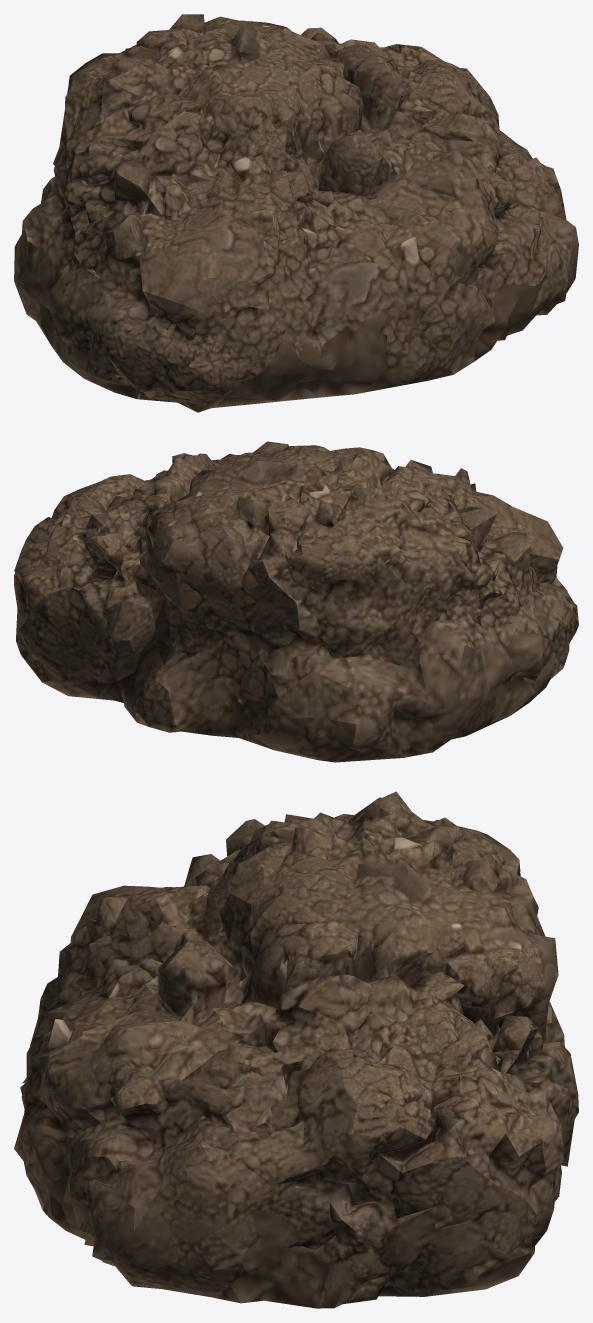
File: dirt-clod.glb
The picture shows the model from 3 angles, top to bottom: view 1: azimuth 30°, elevation 25°; view 2: azimuth 150°, elevation 25°; view 3: azimuth 270°, elevation 25°; orthographic projection. The views are drawn at different scales.
Visible parts, largest first — view 1: output_unwrapped; view 2: output_unwrapped; view 3: output_unwrapped.
Part boxes in pixels (box(x1,y1,x2,y2)): output_unwrapped: box(14, 14, 578, 412); output_unwrapped: box(14, 441, 578, 762); output_unwrapped: box(14, 791, 578, 1308).
Bounding box in the file's own units: 1.89 × 0.9589 × 1.56.
Materials: 1 (1 with a texture image).
